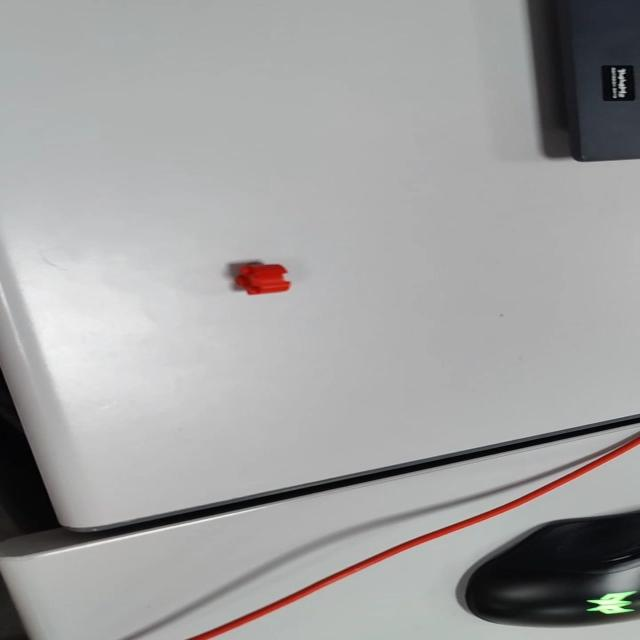S2x2x1: (230, 260, 292, 295)
